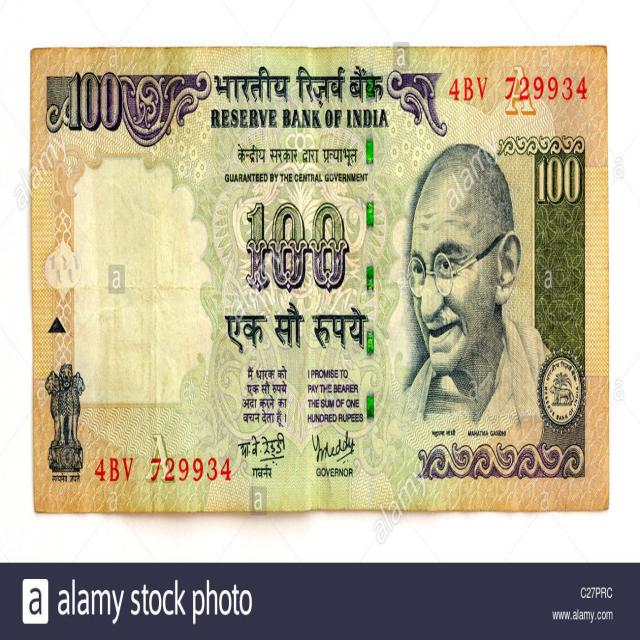100IndianRupees: (33, 42, 611, 517)
